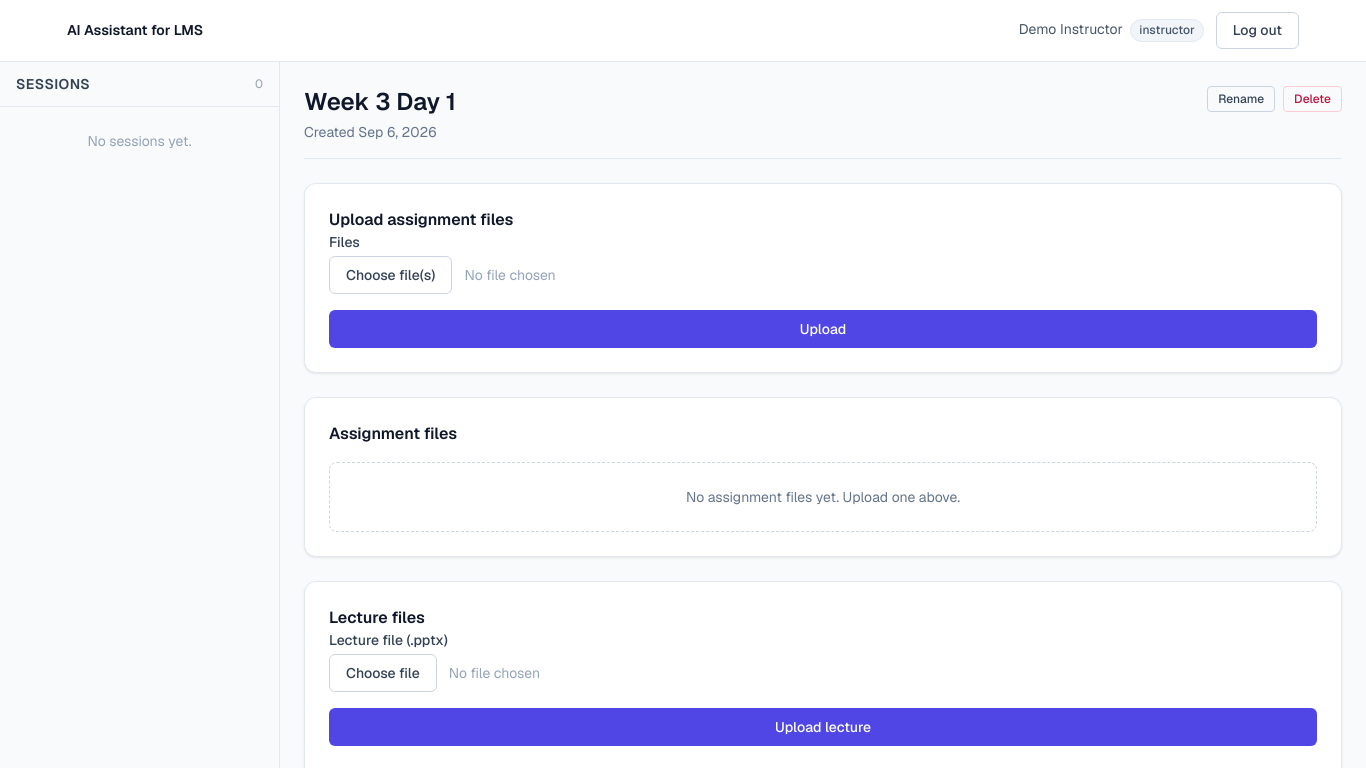
Test: <SessionDetail /> — rename and delete (restored after the 7.8 shell dropped them) › surfaces a delete failure without navigating away
This screenshot has width=1366, height=768.
expect the heading "Week 3 Day 1" is shown: met, box [304,86,456,118]
Click the button "Delete": (1313, 99) [1283,86,1342,112]
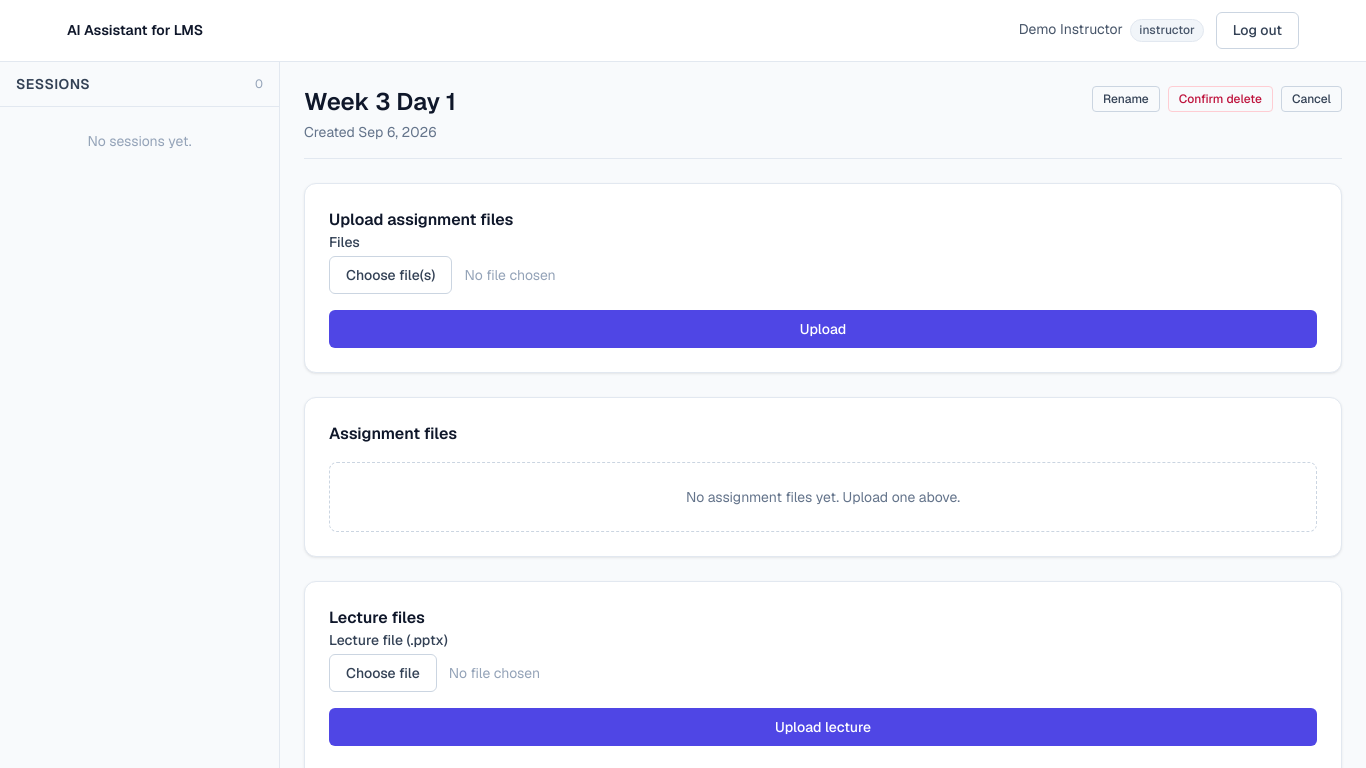
Click the button "Confirm delete": (1220, 99) [1168,86,1273,112]
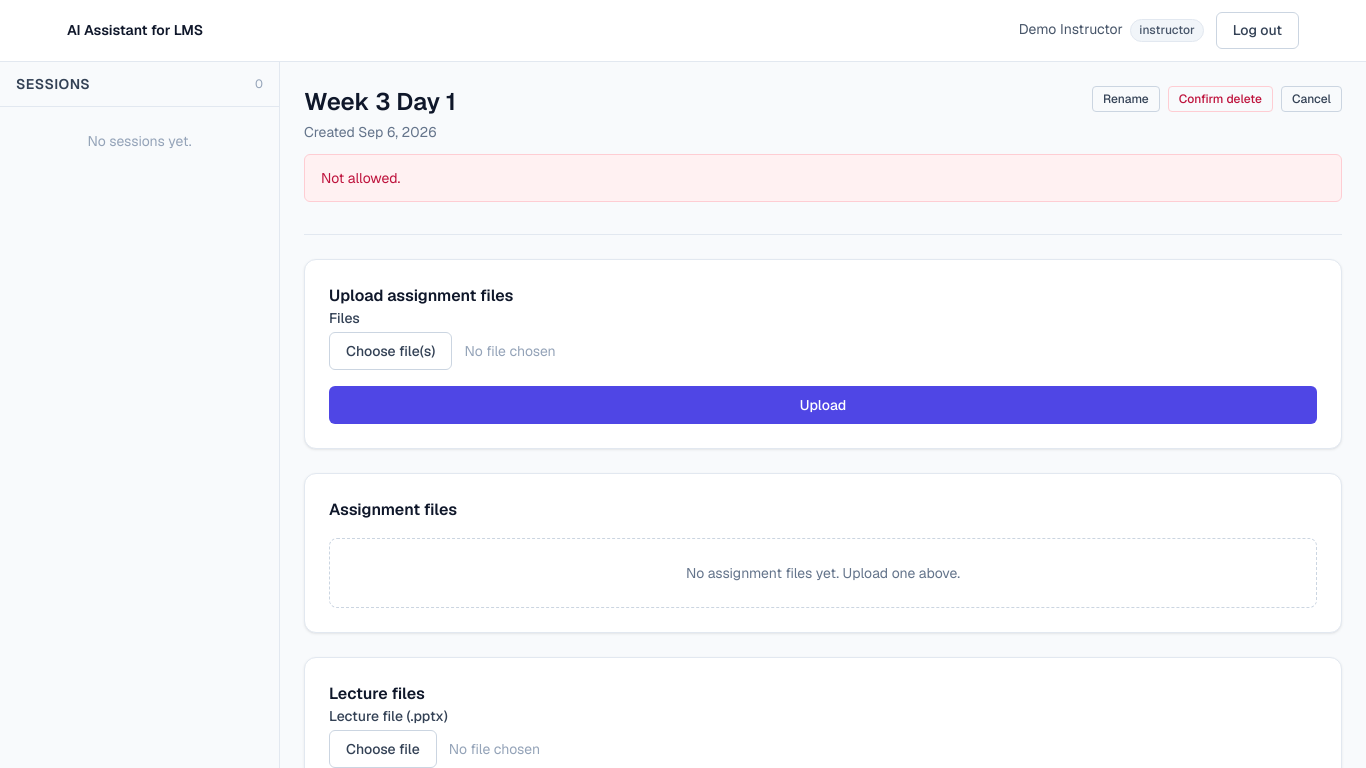
expect the message reads "Not allowed.": met, box [321,169,400,187]
